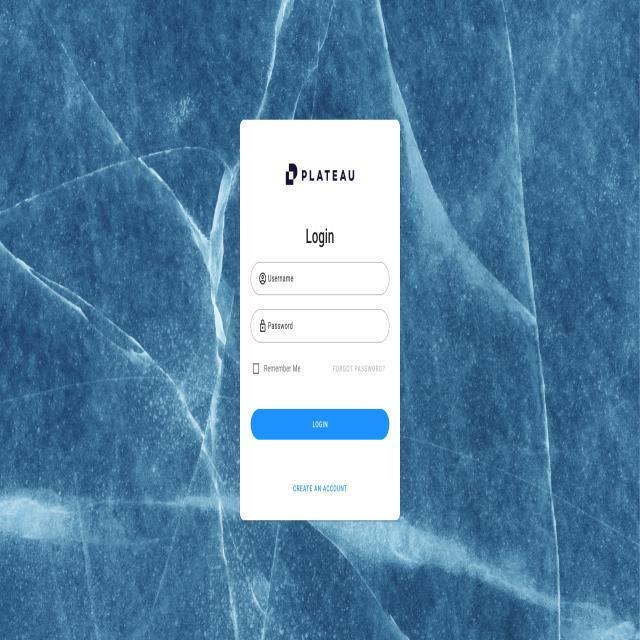QLabel: (304, 225, 335, 249), (292, 482, 348, 494), (332, 363, 386, 374), (310, 420, 330, 430)
VBtn: (250, 408, 390, 441)
VCard: (239, 119, 401, 522)
VCheckbox: (252, 361, 302, 376)
VContainer: (0, 0, 640, 640)
VImg: (283, 161, 357, 189)
VTextField: (250, 260, 390, 296), (250, 308, 390, 343)
